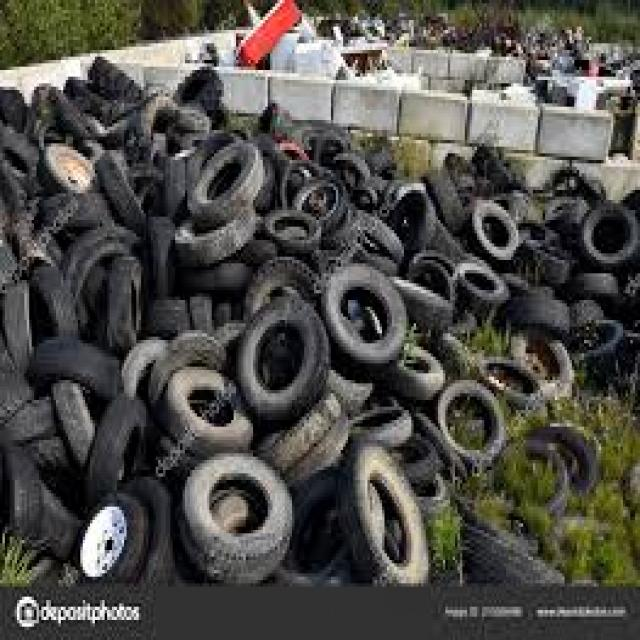Rubber -Non-Biodegradable but Recyclable-: (0, 71, 640, 610)
